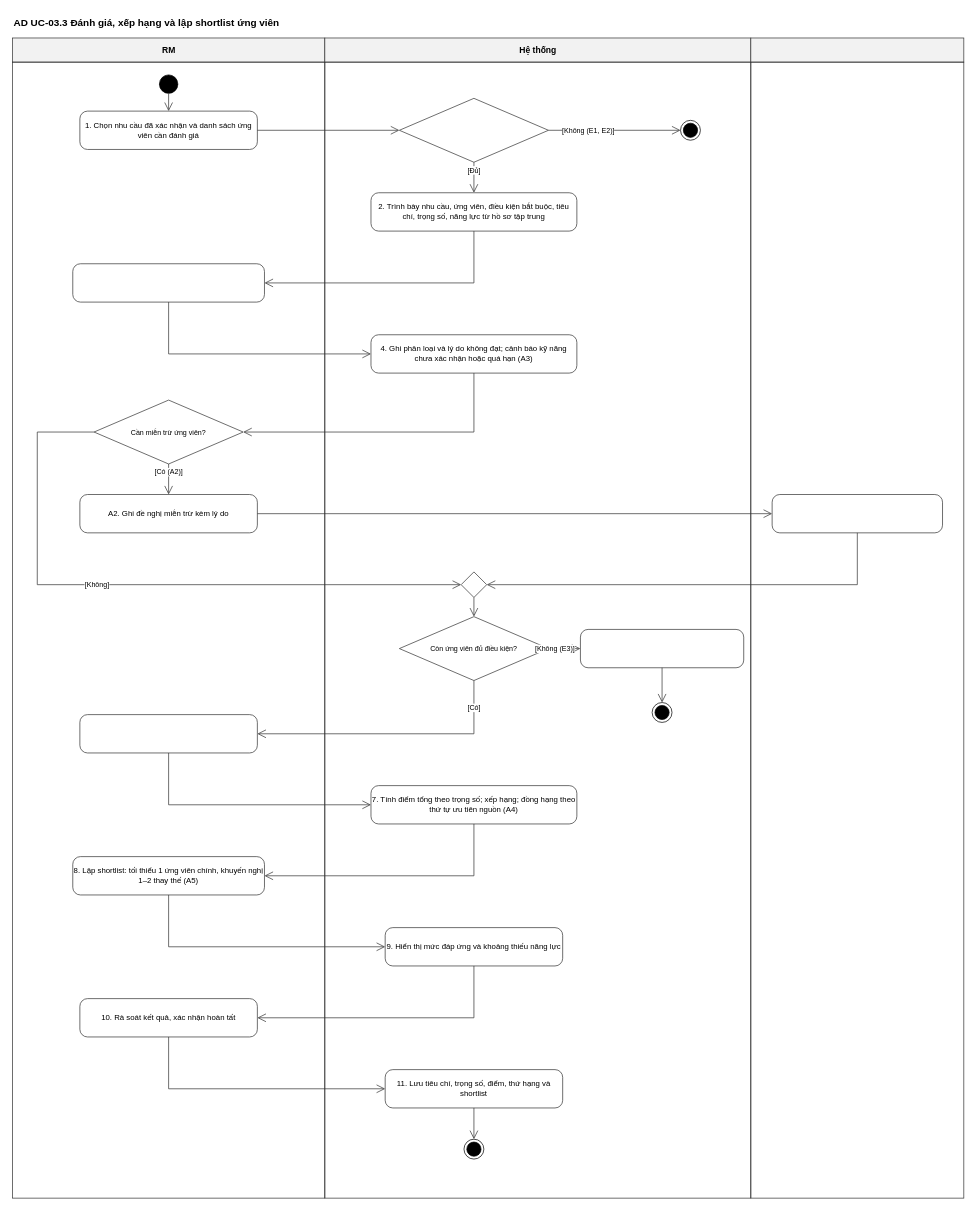
Some shapes in this 976 by 1211 pixel diagram are drawn without their labels. The centre of each missing label's shape, as x and y in pixels:
3. Đối chiếu điều kiện bắt buộc; loại ứng viên xung đột lợi ích (A1): point (168, 282)
6. Chấm điểm từng tiêu chí cho ứng viên đủ điều kiện: point (168, 733)
A2. Phê duyệt hoặc từ chối đề nghị miễn trừ: point (857, 513)
E3. Lưu phân loại, lý do loại; không lập shortlist (RM tìm tiếp ở UC-03.2): point (662, 648)
PMO/Quản lý danh mục: point (857, 49)
Đủ tiền điều kiện?: point (473, 130)
